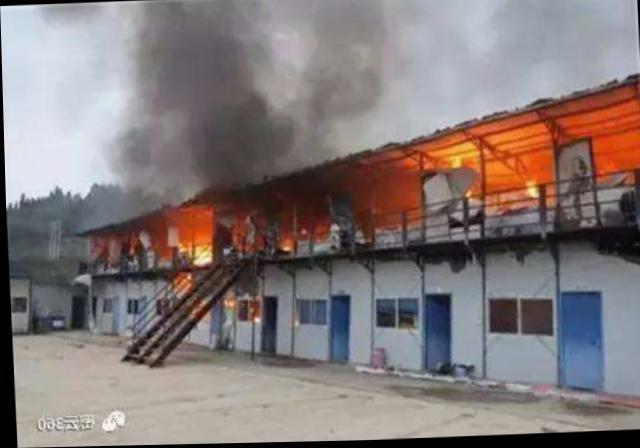fire: (226, 185, 331, 255), (177, 201, 217, 272)
